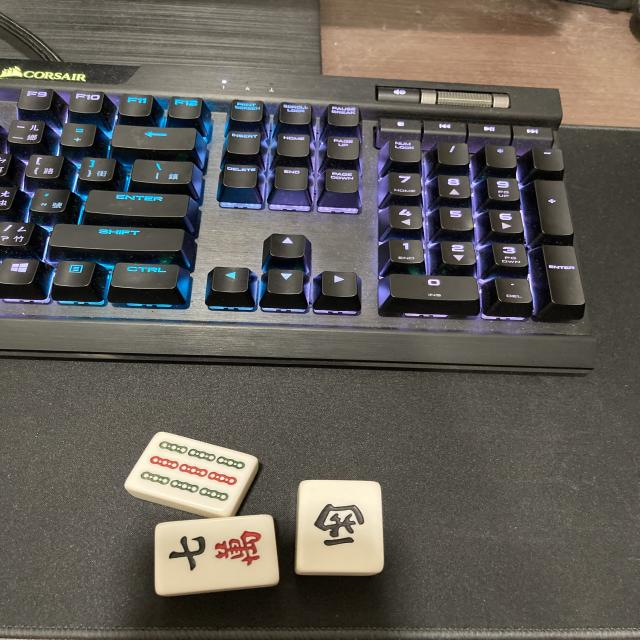7C: (155, 521, 276, 592)
9B: (127, 435, 251, 512)
WW: (302, 488, 380, 569)
